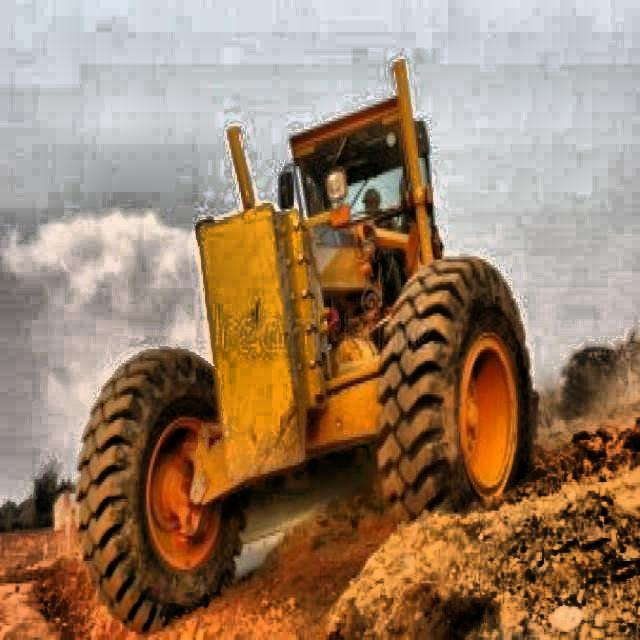bull_dozer/loader/grader: (70, 55, 542, 638)
person: (360, 187, 402, 231)
